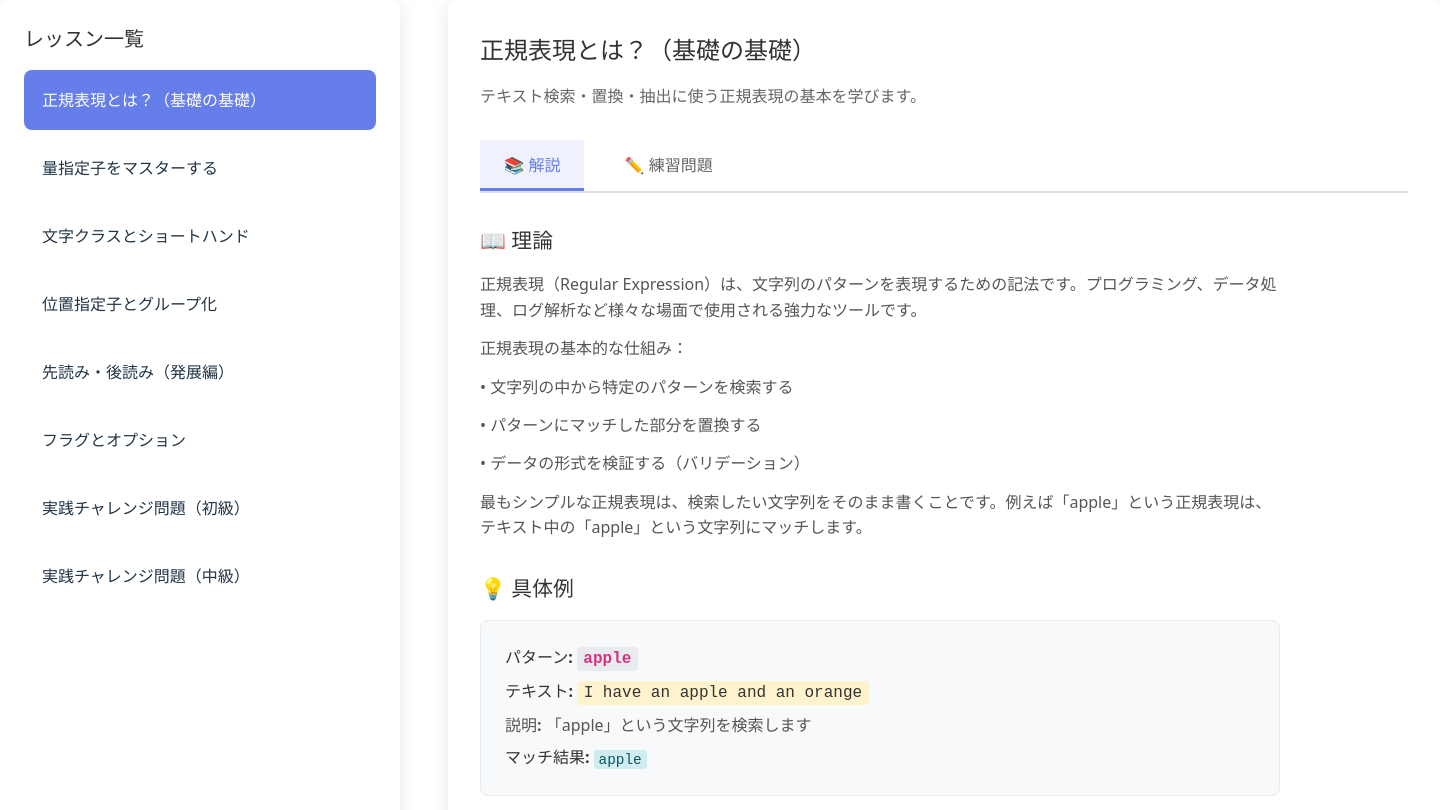
Test case: LearningMode › 練習問題機能 › マッチするが不正解の場合、マッチ内容が表示される
The width and height of the screenshot is (1440, 810).
Click the button "✏️ 練習問題": (669, 166) left=600, top=140, right=737, bottom=191
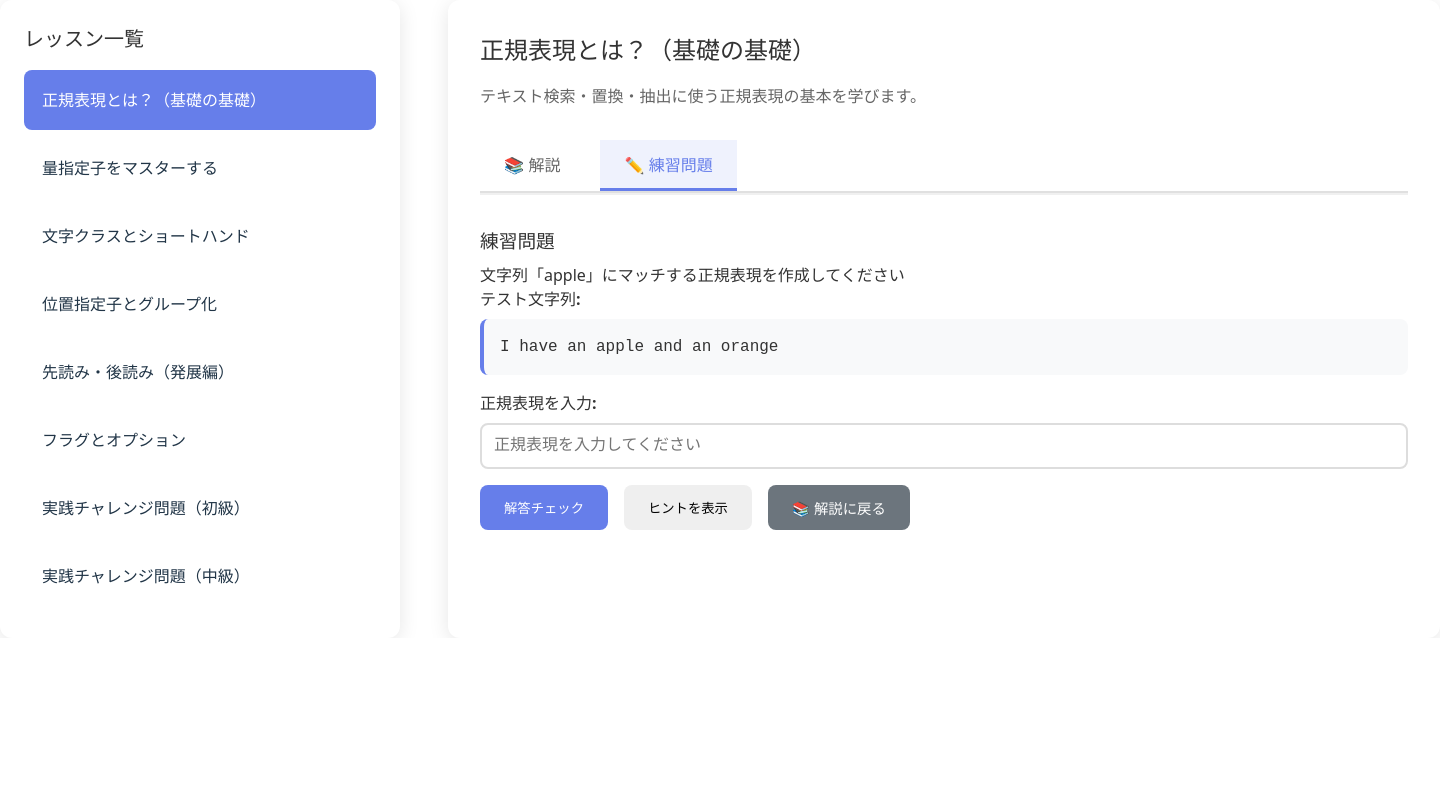
In the field with placeholder "正規表現を入力してください": (944, 446) left=480, top=423, right=1408, bottom=469, type "a"
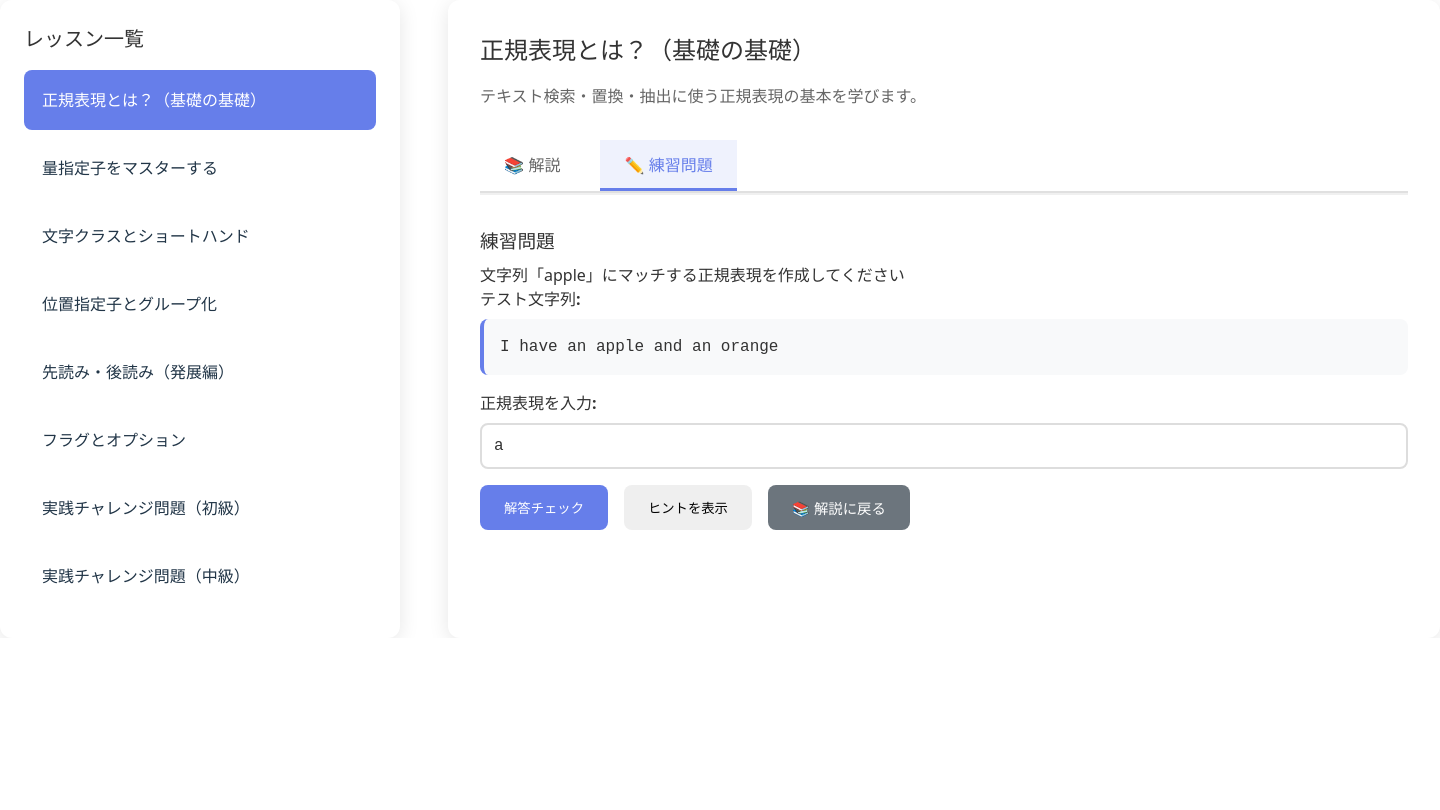
Click the button "解答チェック": (544, 508) left=480, top=485, right=608, bottom=530
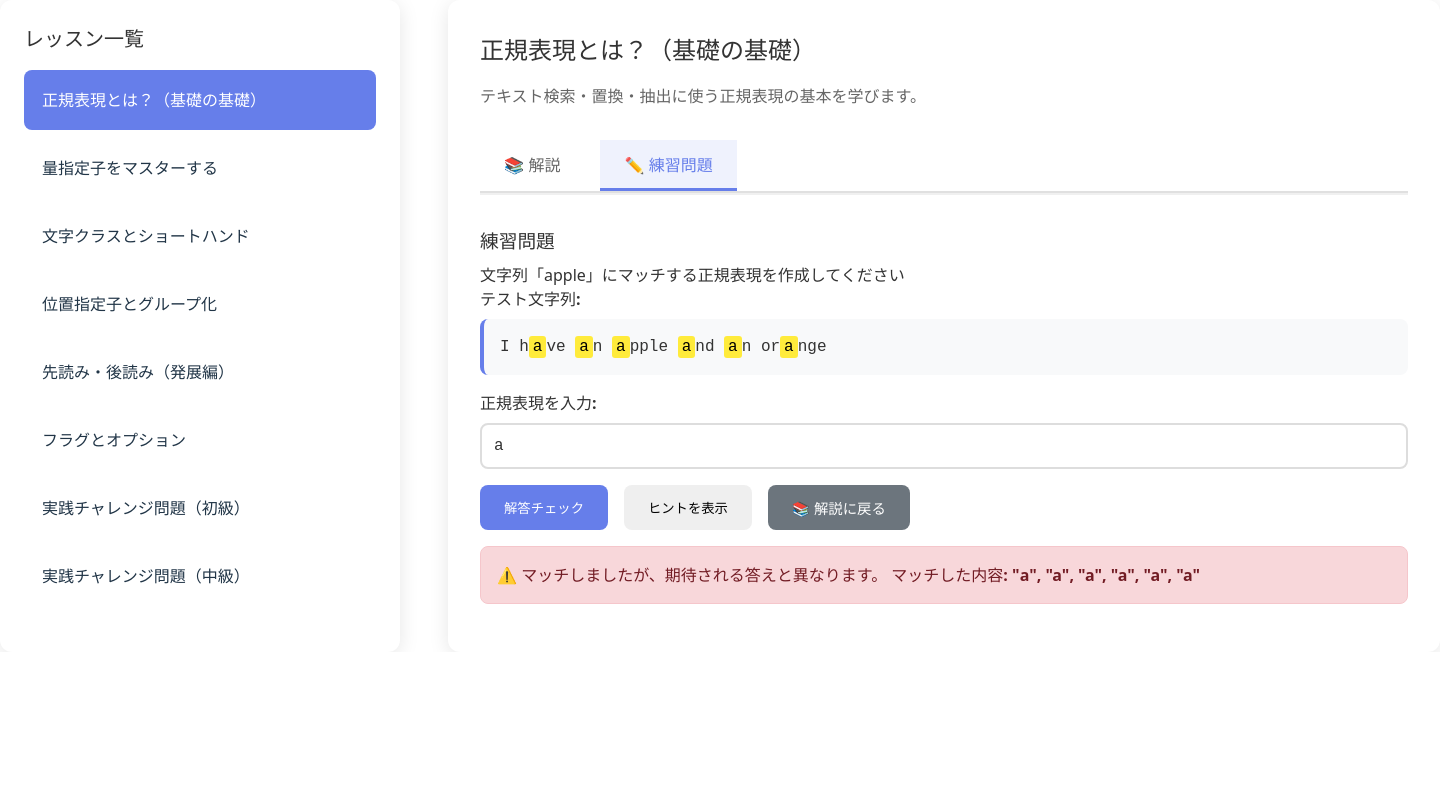
Check: the text "マッチしましたが、期待される答えと異なります" is shown, box left=497, top=564, right=1200, bottom=586
